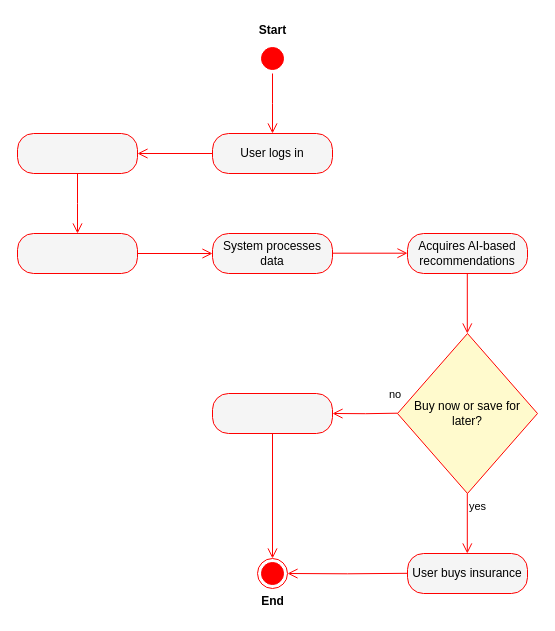
This 555x631 diagram has some shape labels left out. The centre of each missing label's shape, as x and y in pixels:
"Fills out a form" goes at (77,253).
"Selects the AI chatbot" goes at (77,153).
"User saves recommendations" goes at (272,413).
